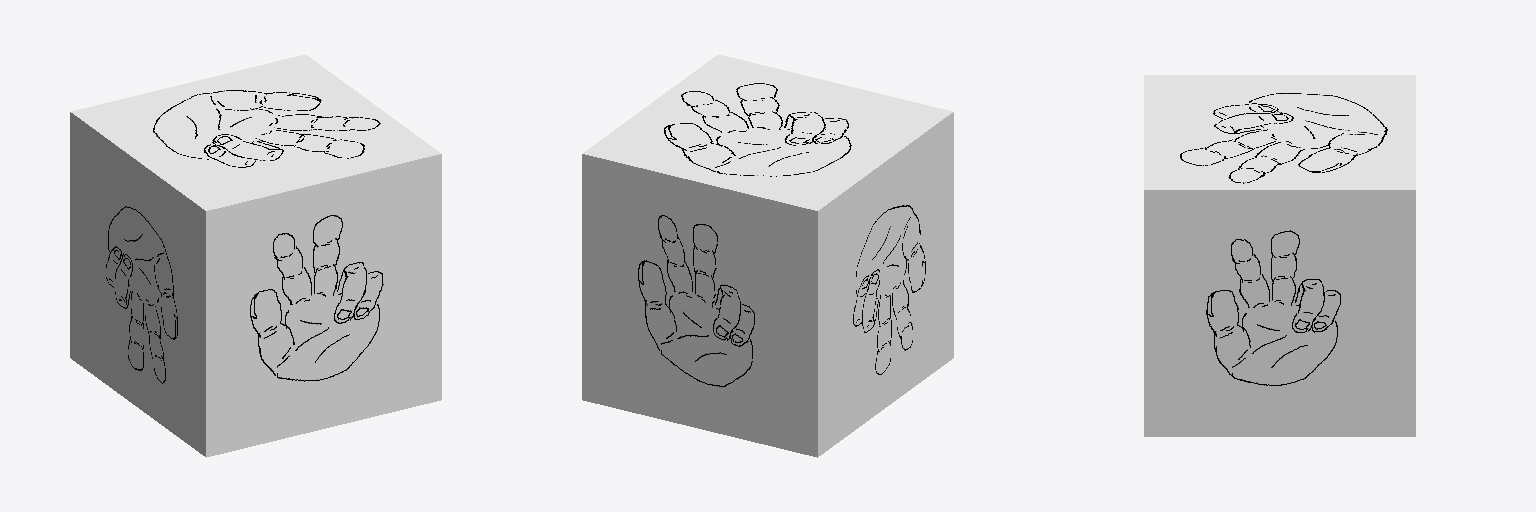
The picture shows the model from 3 angles: view 1: azimuth 30°, elevation 25°; view 2: azimuth 150°, elevation 25°; view 3: azimuth 270°, elevation 25°; orthographic projection.
Parts seen in each view (by area): view 1: Cube; view 2: Cube; view 3: Cube.
Boxes of the visible parts, box(x1,y1,x2,y2) form: Cube: box(70, 54, 441, 457); Cube: box(582, 54, 953, 457); Cube: box(1144, 75, 1415, 436).
Bounding box in the file's own units: 2 × 2 × 2.
1 materials, 1 textured.